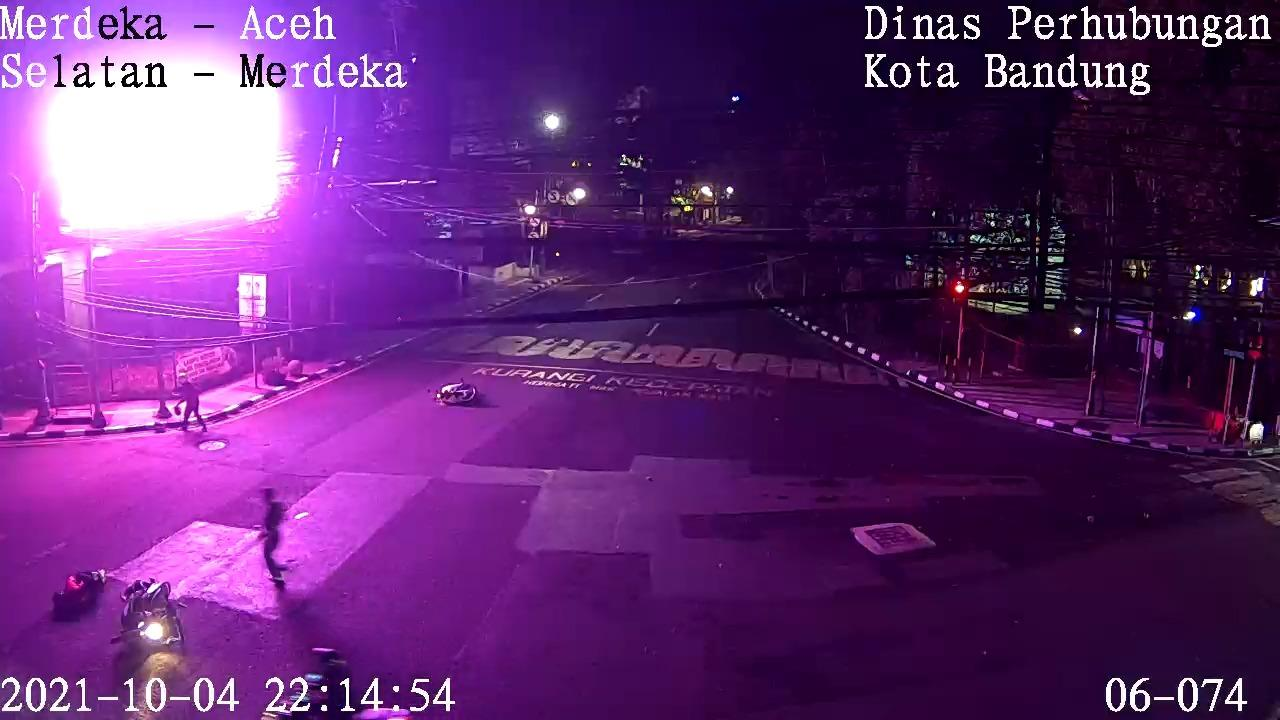accident: (29, 549, 120, 640)
